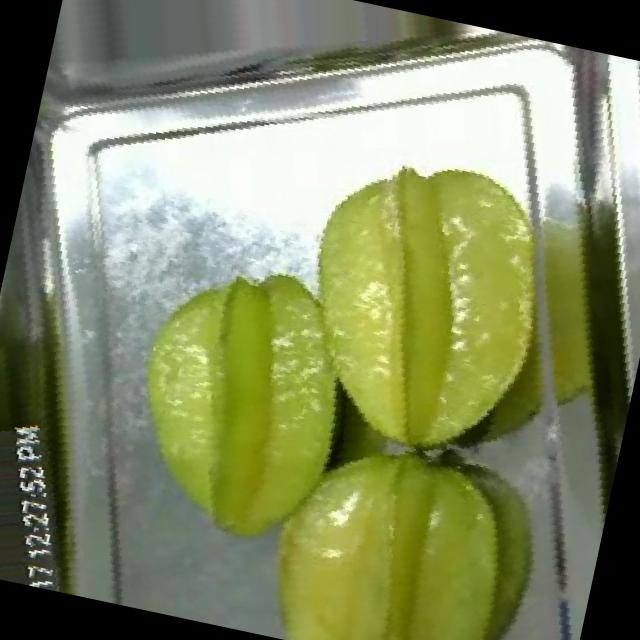fruit: (206, 93, 628, 523), (52, 210, 441, 624), (195, 372, 580, 640)
